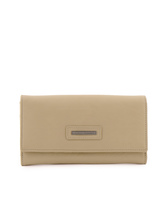other: (19, 92, 159, 167)
